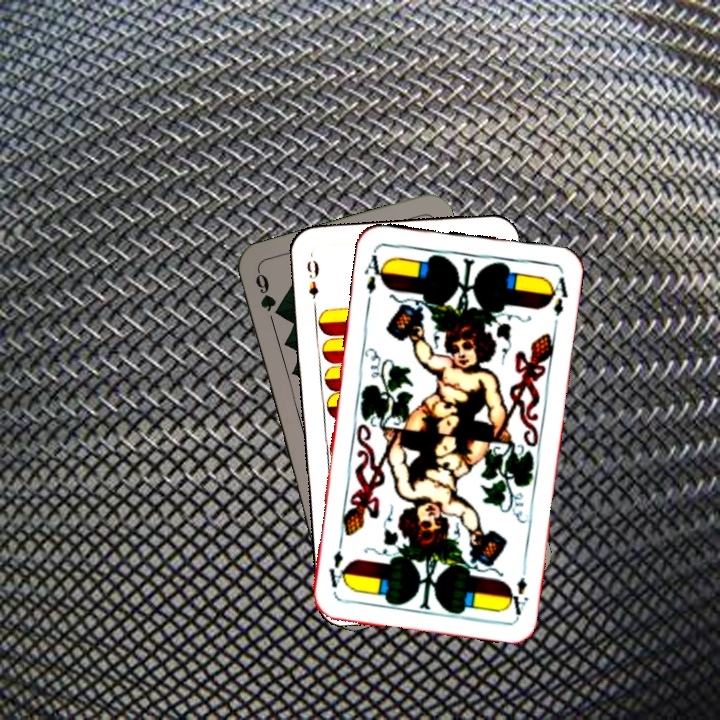E9: (302, 256, 322, 301)
EA: (504, 559, 531, 618), (360, 247, 389, 296)
G9: (251, 267, 277, 326)
